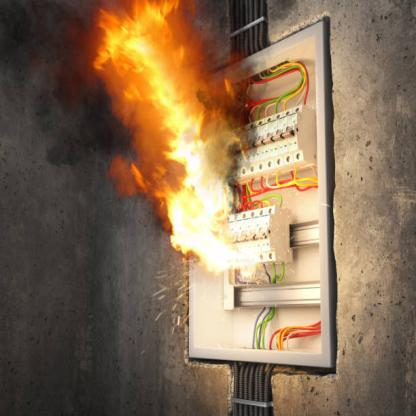fire: (104, 11, 250, 283)
smoke: (0, 0, 150, 200), (197, 4, 305, 64)
